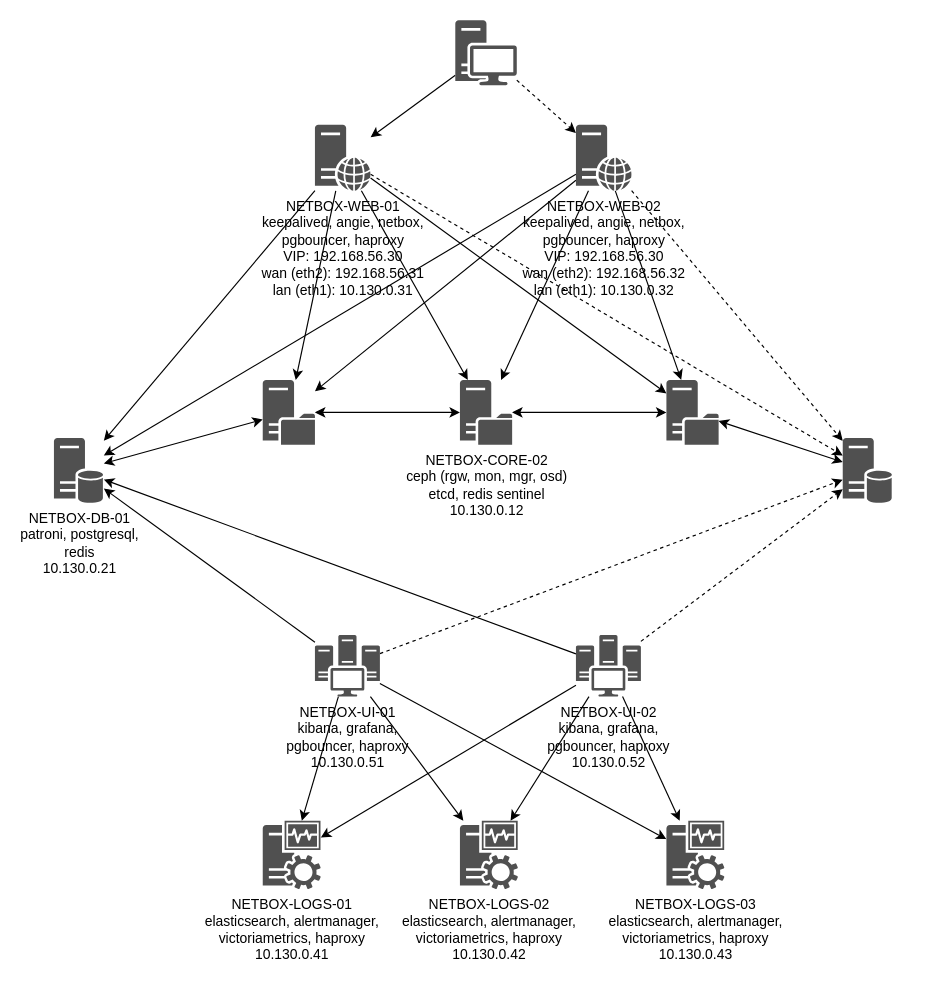
The diagram is 947 pixels wide and 984 high, and some of its shapes have lost their labels. Here are the shapes that lost their labels. From the top down, the centre of each, then its label:
At [485,52]: "client 192.168.56.1".
At [288,411]: "NETBOX-CORE-01 ceph (rgw, mon, mgr, osd) etcd, redis sentinel 10.130.0.11".
At [692,411]: "NETBOX-CORE-03 ceph (rgw, mon, mgr, osd) etcd, redis sentinel 10.130.0.13".
At [867,469]: "NETBOX-DB-02 patroni, postgresql, redis 10.130.0.22".
